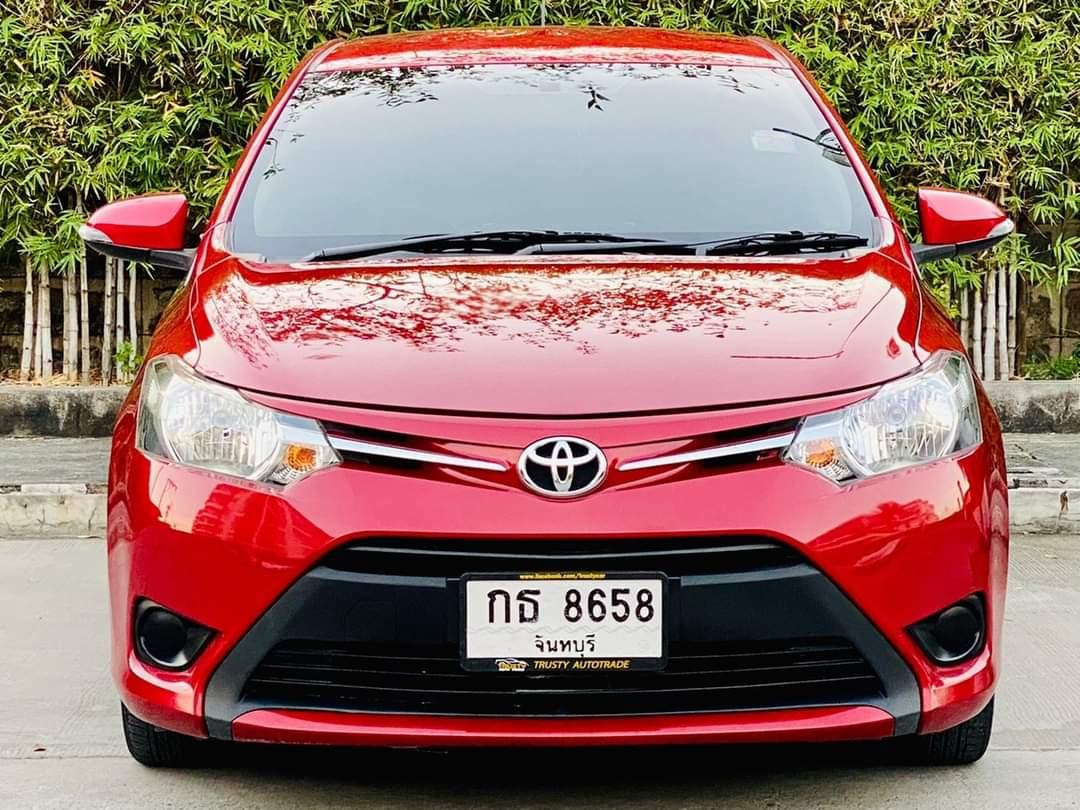license-plate: (450, 567, 679, 677)
